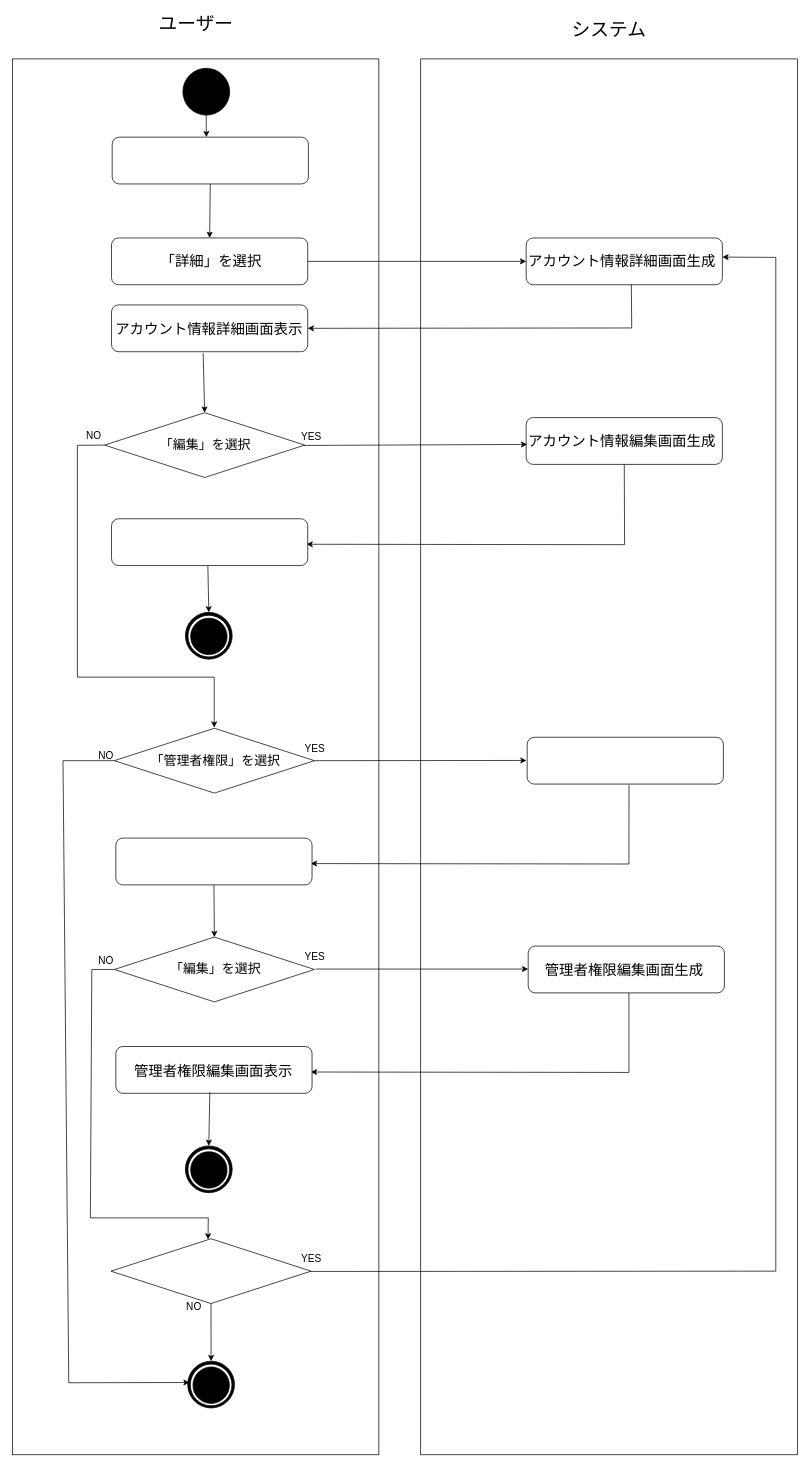
The diagram is 810 pixels wide and 1468 high, and some of its shapes have lost their labels. The centre of each missing label's shape, as x and y in pixels:
「アカウント情報」を選択: point (210, 1271)
アカウント情報編集画面表示: point (209, 542)
管理者アカウント 一覧画面表示: point (209, 160)
管理者権限画面生成: point (624, 760)
管理者権限画面表示: point (213, 861)
